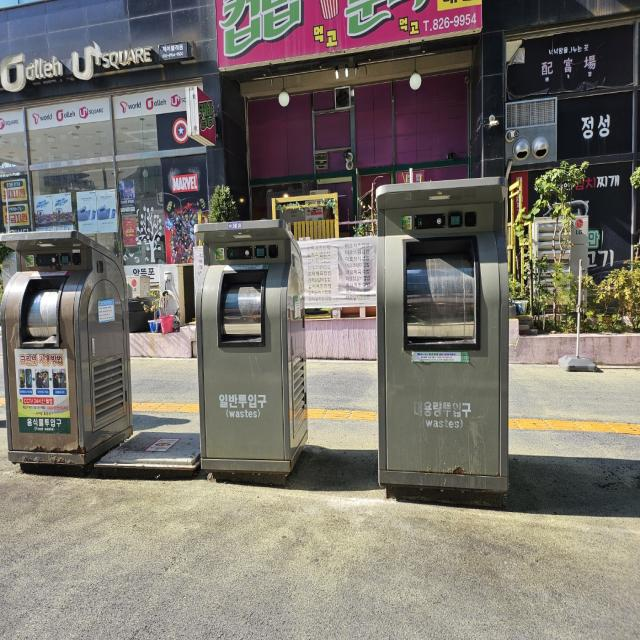CleanNet: (373, 166, 516, 512), (189, 209, 312, 489), (0, 220, 132, 471)
